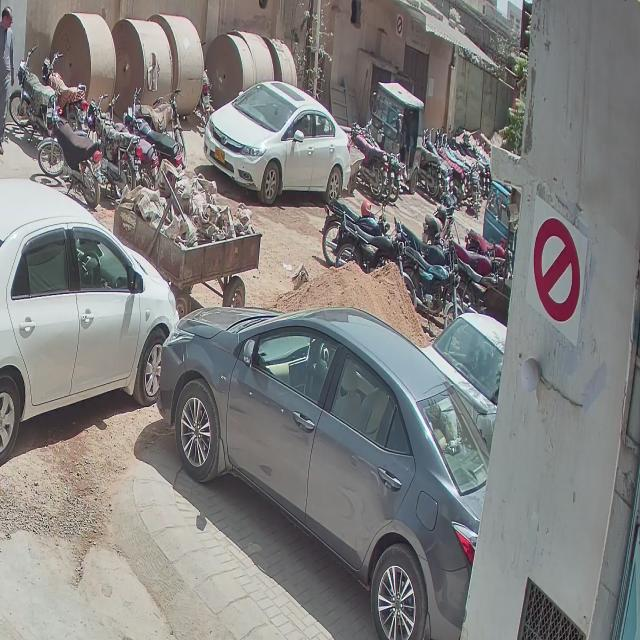bike: (37, 92, 106, 208), (86, 93, 142, 201), (9, 46, 60, 145), (319, 194, 386, 267), (334, 211, 405, 276), (110, 94, 158, 190), (124, 88, 182, 167), (404, 240, 459, 321), (136, 89, 186, 167), (42, 52, 88, 134), (352, 122, 388, 199), (400, 218, 454, 266), (464, 228, 512, 278), (458, 257, 498, 313), (453, 242, 498, 280), (422, 206, 455, 246), (420, 146, 441, 198), (200, 72, 213, 122)
car: (158, 304, 489, 640), (0, 177, 179, 469), (204, 81, 350, 209), (425, 313, 503, 428)
